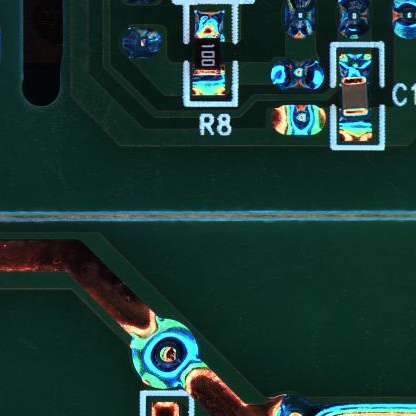spot: (128, 318, 199, 389), (270, 60, 327, 92), (269, 104, 325, 136), (121, 26, 165, 61), (336, 1, 372, 40), (284, 1, 316, 41), (388, 1, 415, 40)
